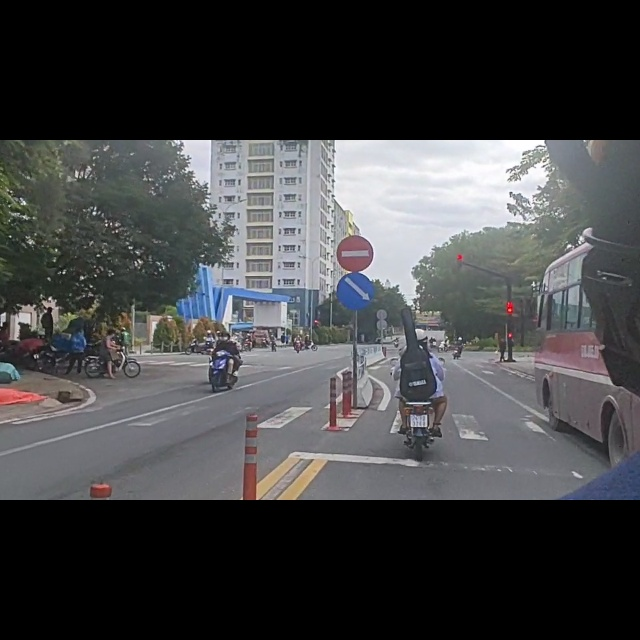bien_hieu_lenh: (337, 233, 377, 303), (337, 167, 374, 237)
